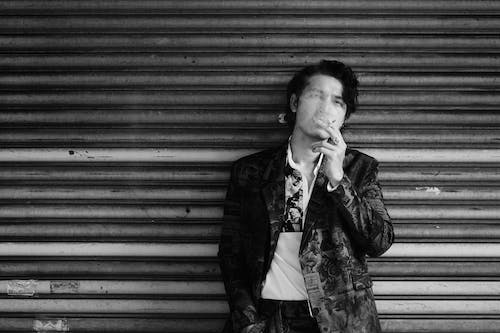cigarette: (327, 118, 337, 126)
